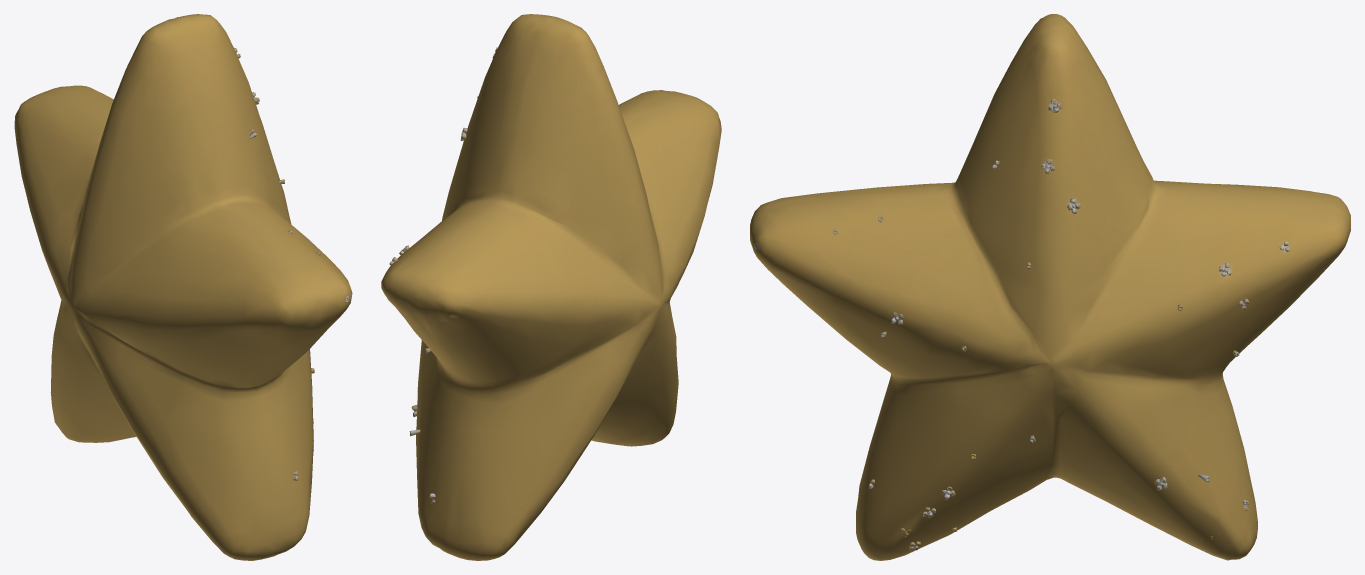
File: r33-star.glb
3 renders of one model, left to right at view 1: azimuth 30°, elevation 25°; view 2: azimuth 150°, elevation 25°; view 3: azimuth 270°, elevation 25°, orthographic. The views are drawn at different scales.
Visible parts, largest first — view 1: tripo_node_db335e41-9594-4dd6-8968-e6112c829ae9; view 2: tripo_node_db335e41-9594-4dd6-8968-e6112c829ae9; view 3: tripo_node_db335e41-9594-4dd6-8968-e6112c829ae9.
Part boxes in pixels (<box>): tripo_node_db335e41-9594-4dd6-8968-e6112c829ae9: <box>14,14,352,560</box>; tripo_node_db335e41-9594-4dd6-8968-e6112c829ae9: <box>381,14,721,560</box>; tripo_node_db335e41-9594-4dd6-8968-e6112c829ae9: <box>750,14,1350,560</box>.
Size of the model in its own units: 0.4668 by 0.9668 by 0.998.
1 material, 1 textured.
